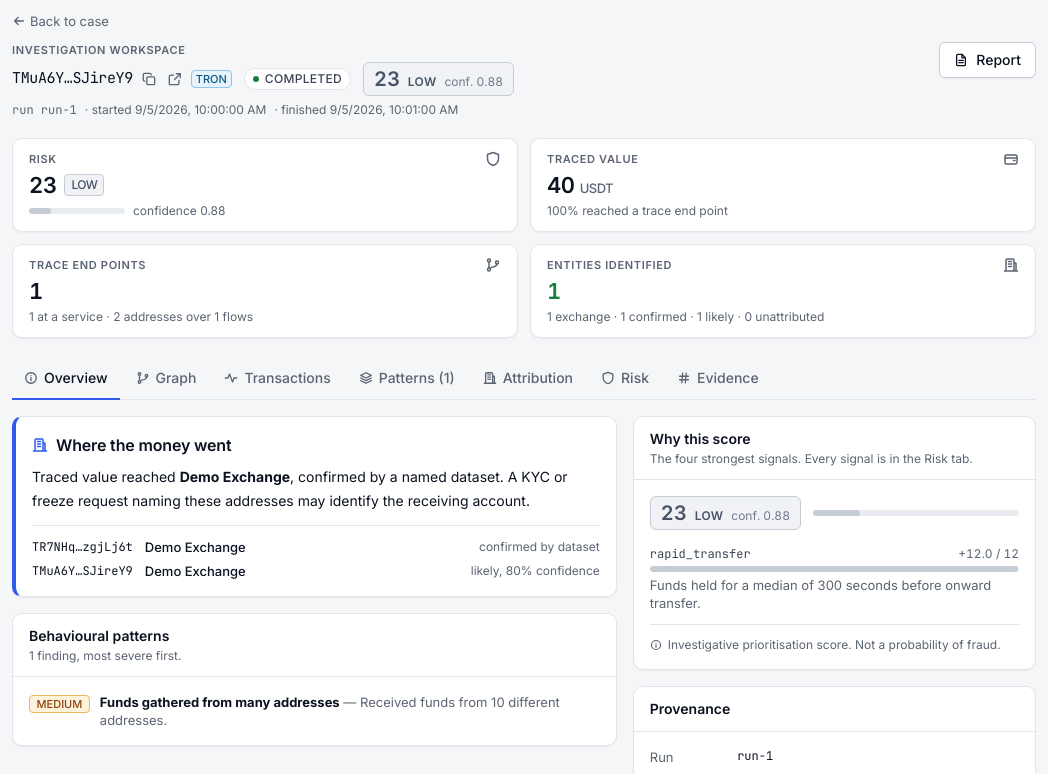
Test: investigation workspace › keeps not-evaluated signals distinct from zero-scoring ones
This screenshot has width=1048, height=774.
expect the heading "Where the money went" is shown: met, box [32,435,232,455]
Click the tab "Risk": {"x": 625, "y": 379} [589,358,661,400]
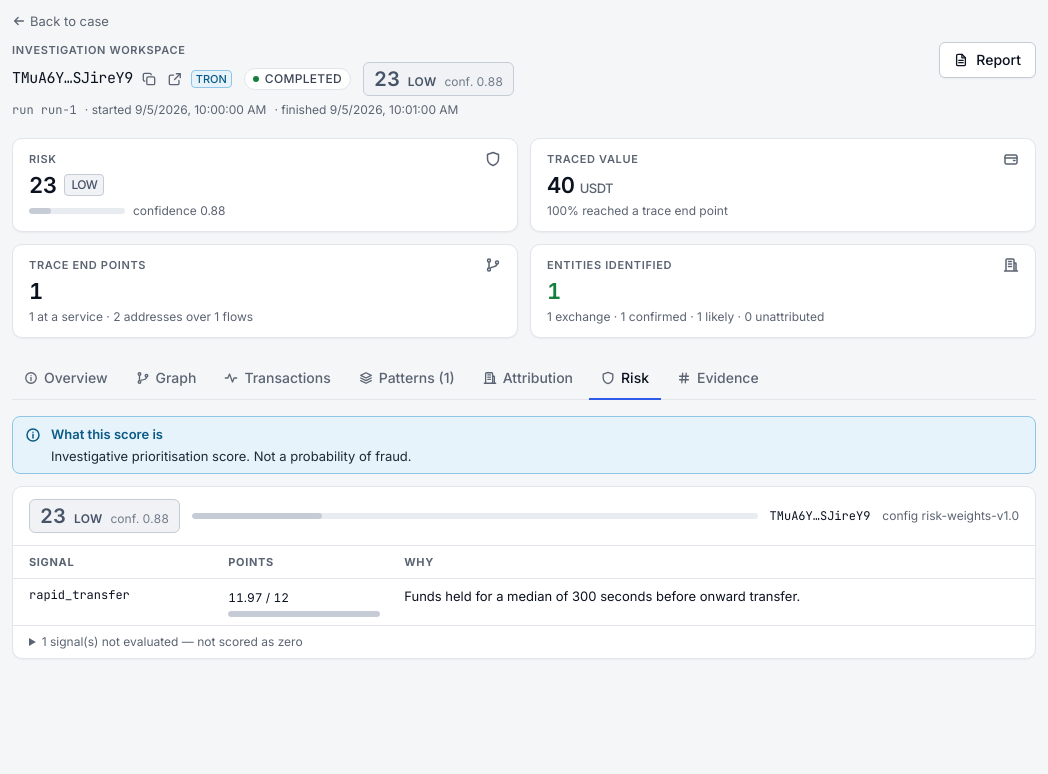
expect the heading "1 signal(s) not evaluated — not scored as zero" is shown: met, box [42,634,303,649]
